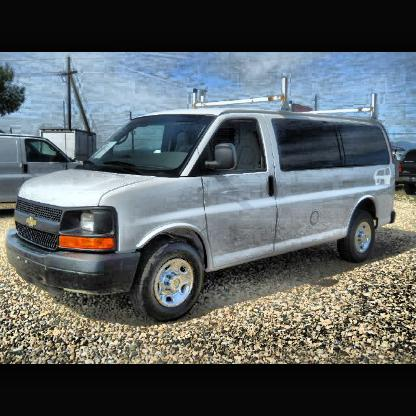Chevrolet Express Van 2007: (5, 105, 399, 325)
